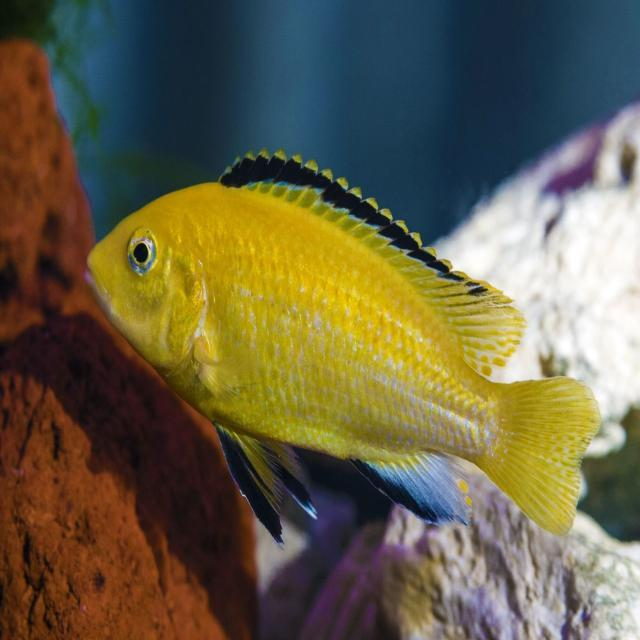YellowCichlid: (89, 148, 606, 546)
